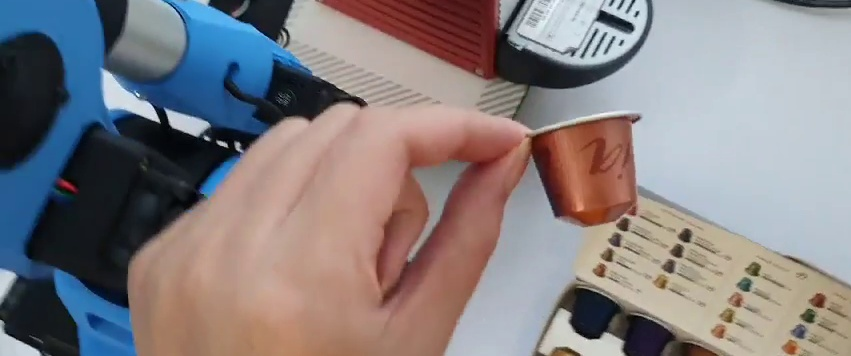capsule_6: (522, 111, 648, 230)
